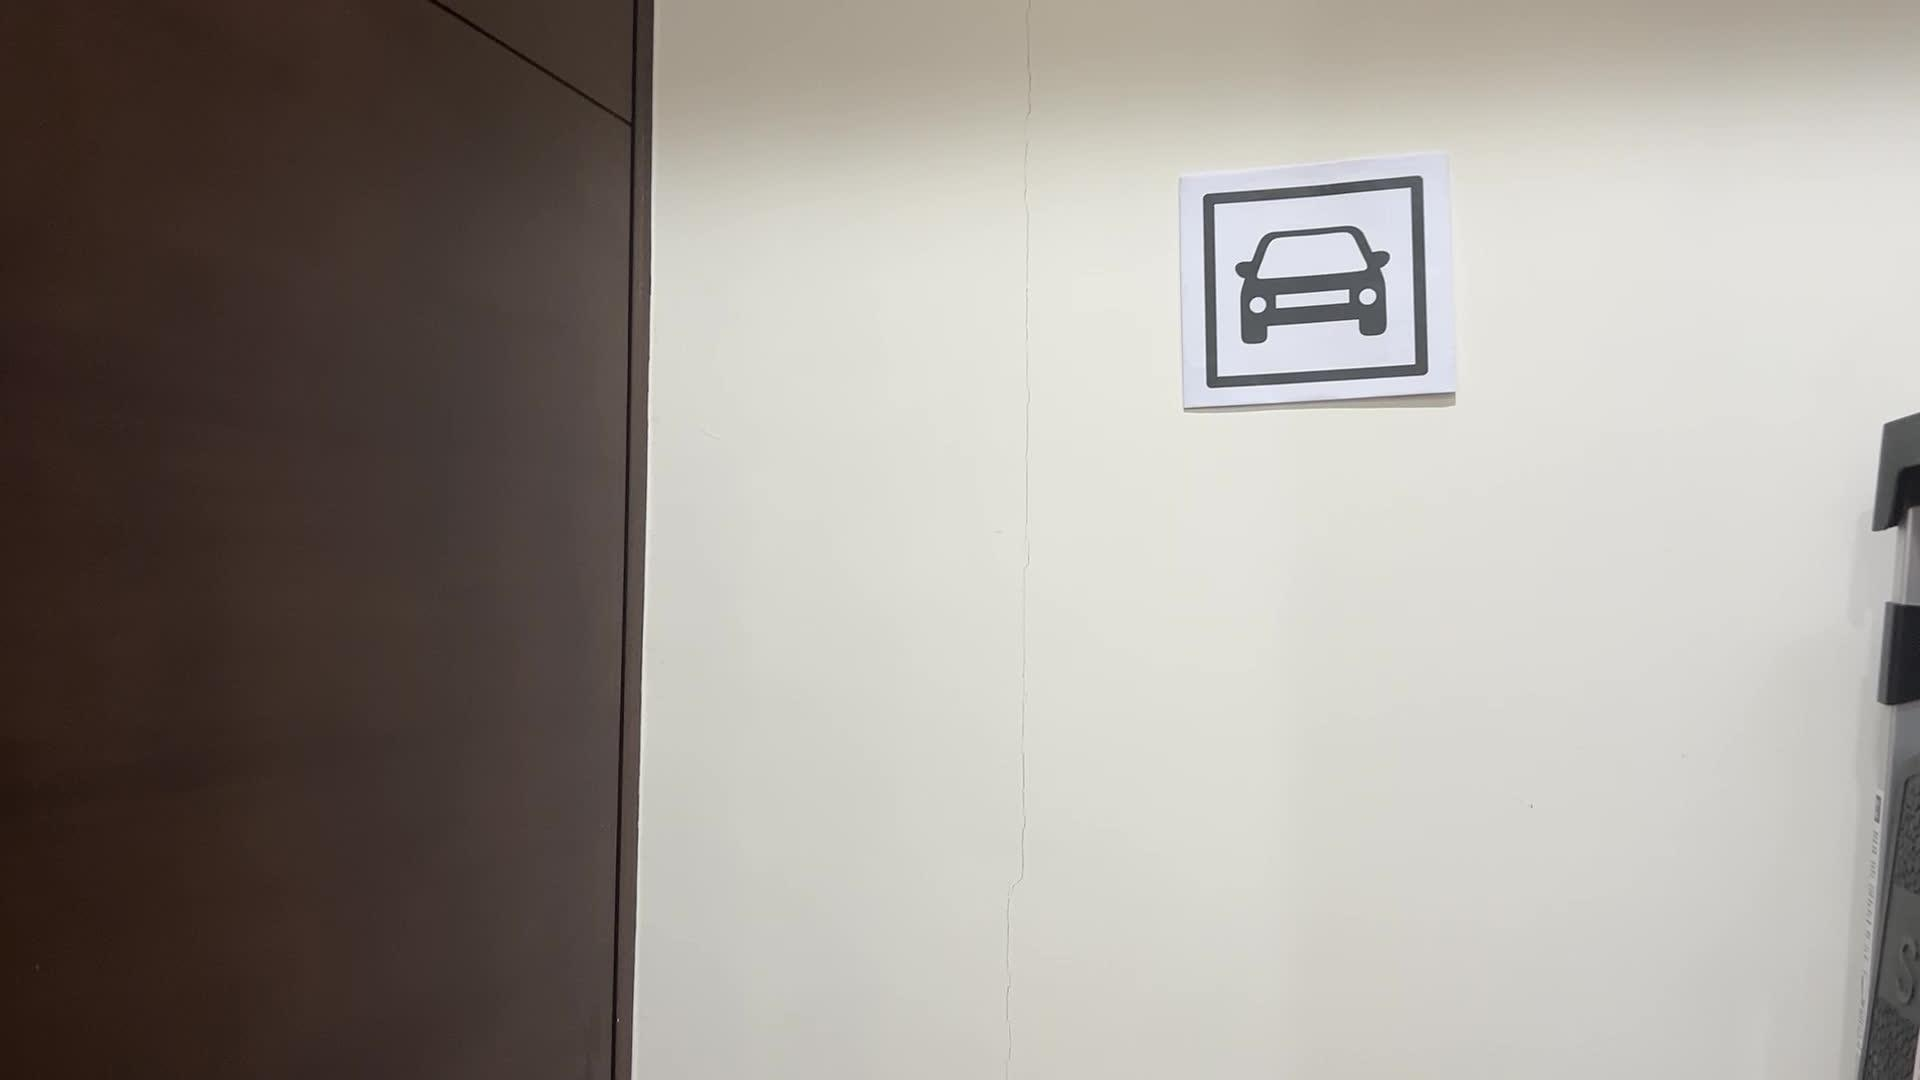car_img: (1203, 174, 1429, 390)
